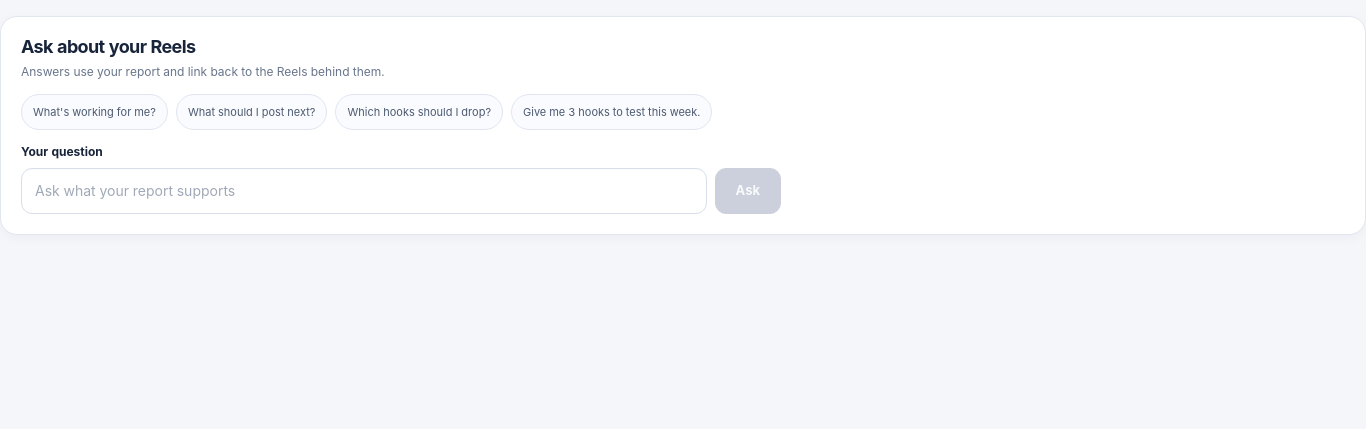
Scenario: Creator assistant › starts from a prompt and links citations to the report
Click the button "What's working for me?": click(94, 112) [21, 94, 168, 130]
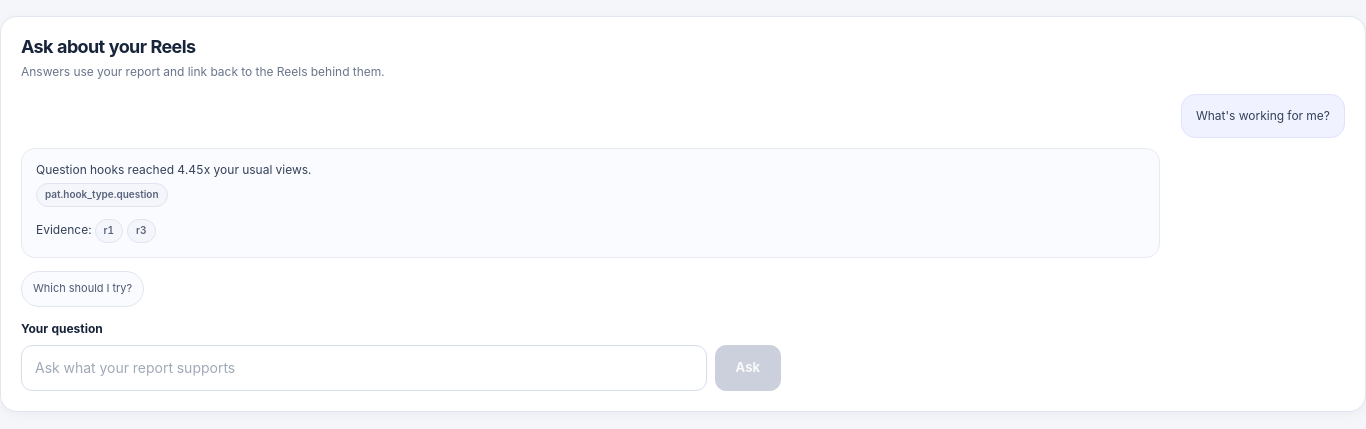
Check: the text "Question hooks reached 4.45x your usual views." is shown, box [36, 162, 311, 178]
Check: the text "pat.hook_type.question" is shown, box [36, 183, 168, 207]
Check: the button "Which should I try?" is shown, box [21, 271, 144, 307]
